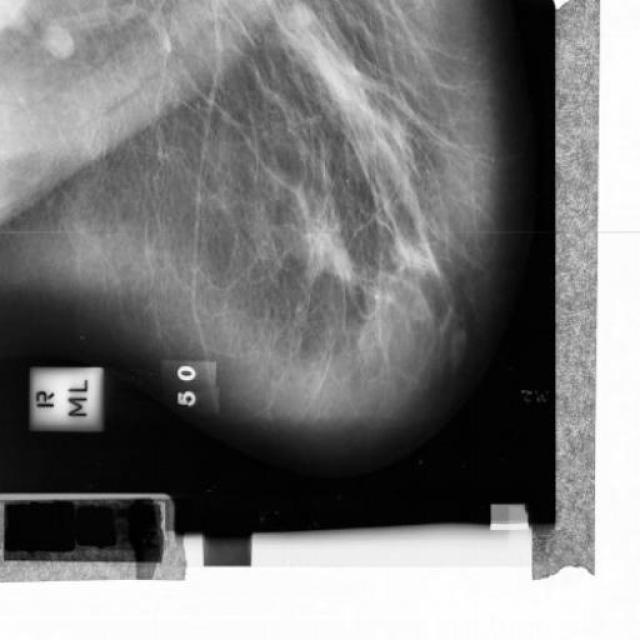cancer: (286, 200, 362, 298)
